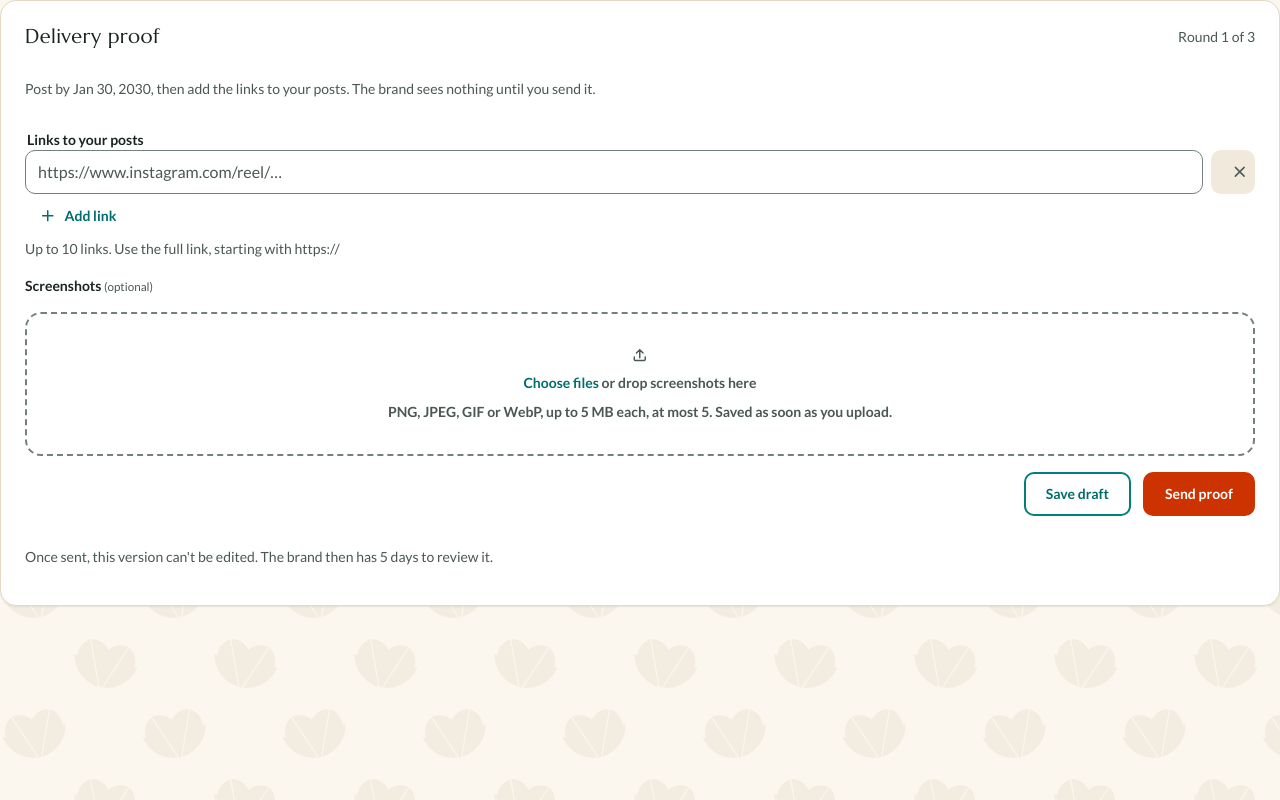
Test case: refuses an empty link row next to a valid one instead of dropping it, and names the row
Type "https://example.com/post" into the field named "Link 1" at (614, 172), box x1=25 y1=150 x2=1203 y2=194
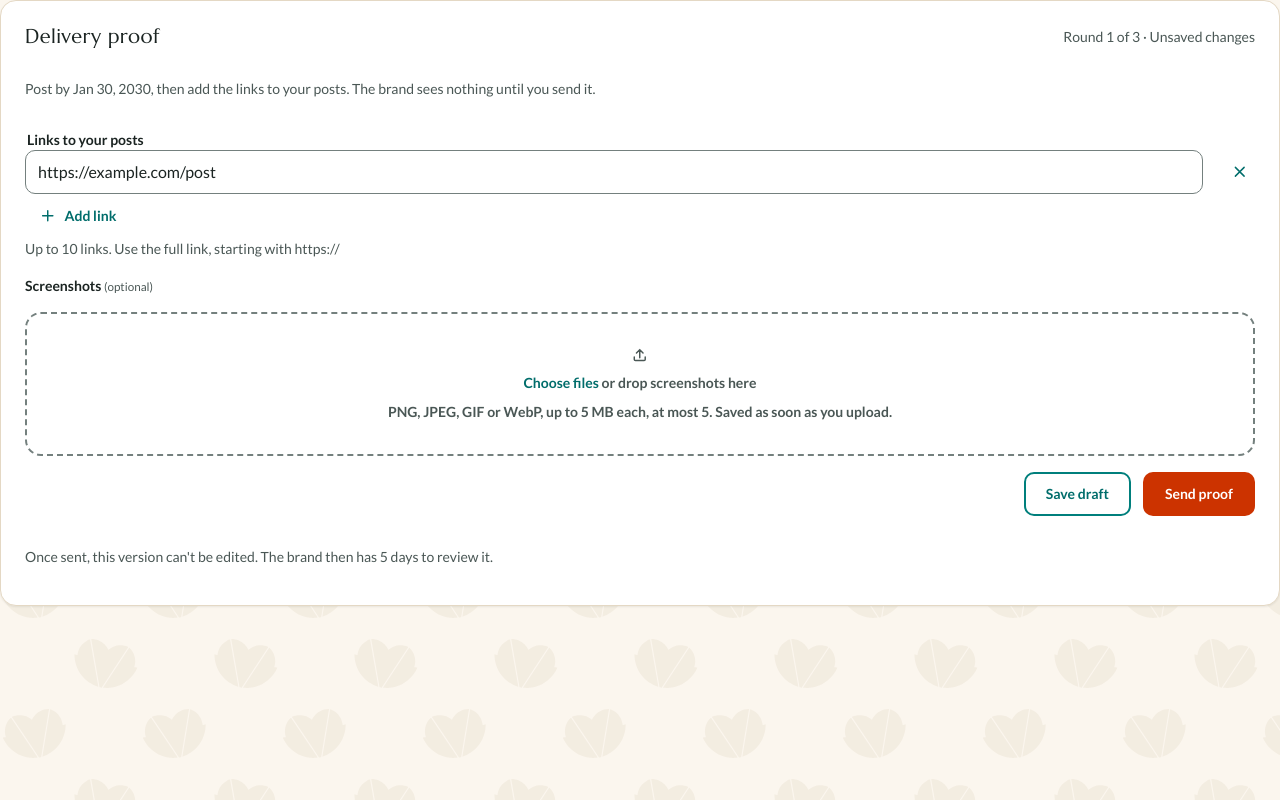
Click the button "Add link" at (78, 216), box x1=25 y1=198 x2=130 y2=234
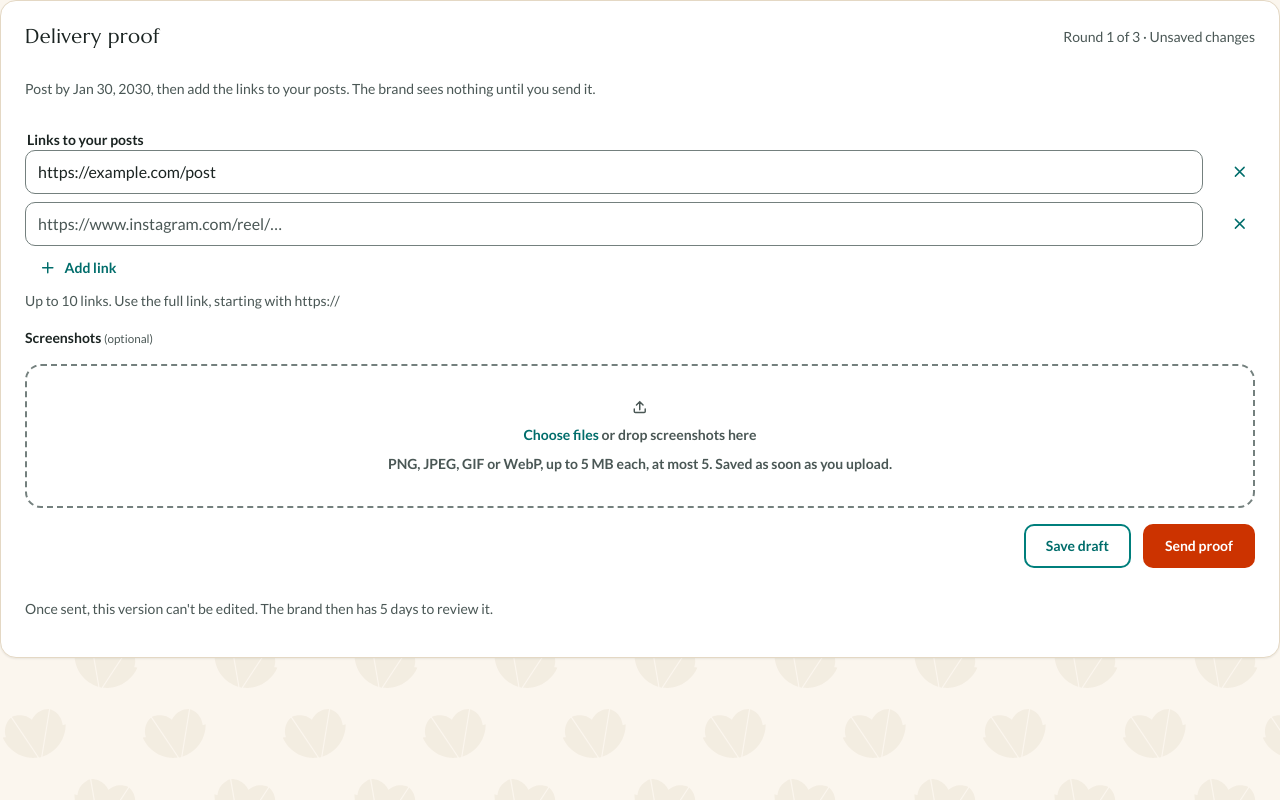
Click the button "Send proof" at (1199, 546), box x1=1143 y1=524 x2=1255 y2=568
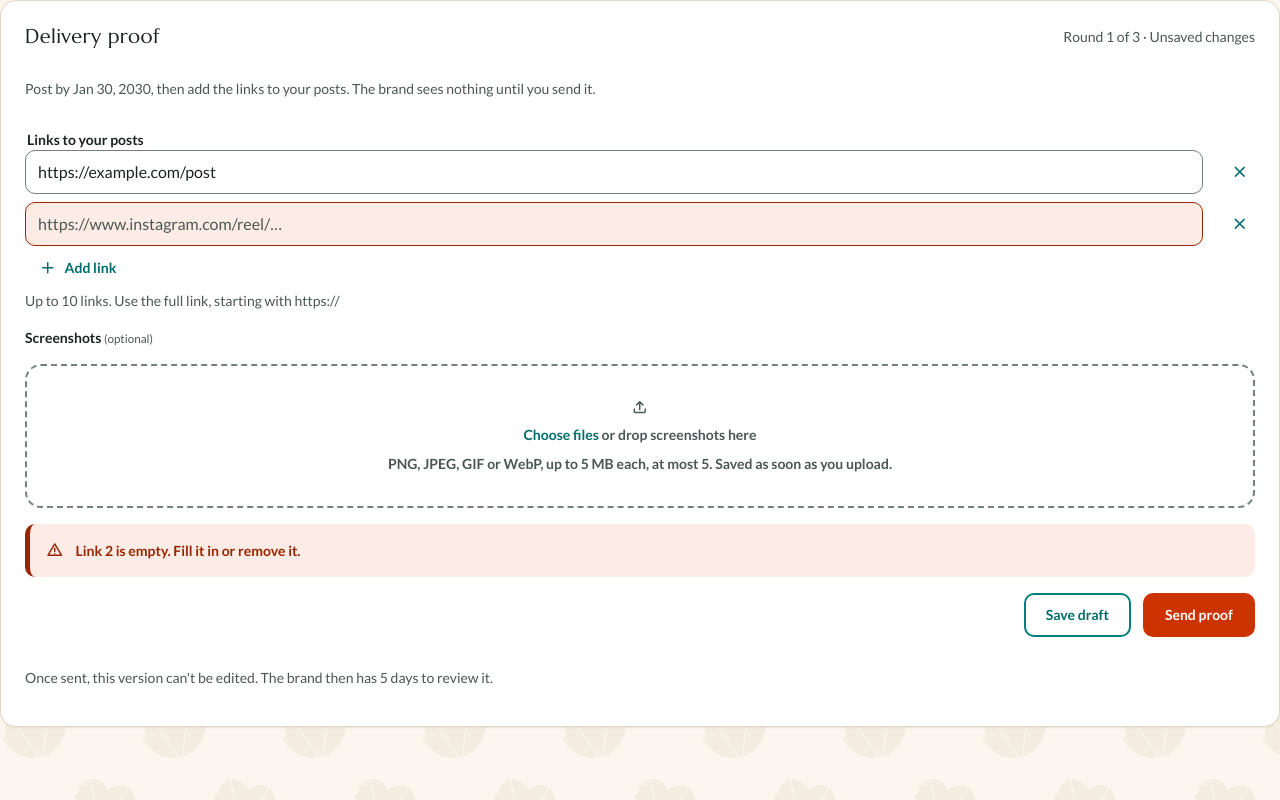
Expected: the element "Send your proof?" is not shown
Expected: the message reads "Link 2 is empty. Fill it in or remove it.", x1=76 y1=542 x2=300 y2=558
Click the button named "Remove link 2" at (1233, 224), box x1=1211 y1=202 x2=1255 y2=246
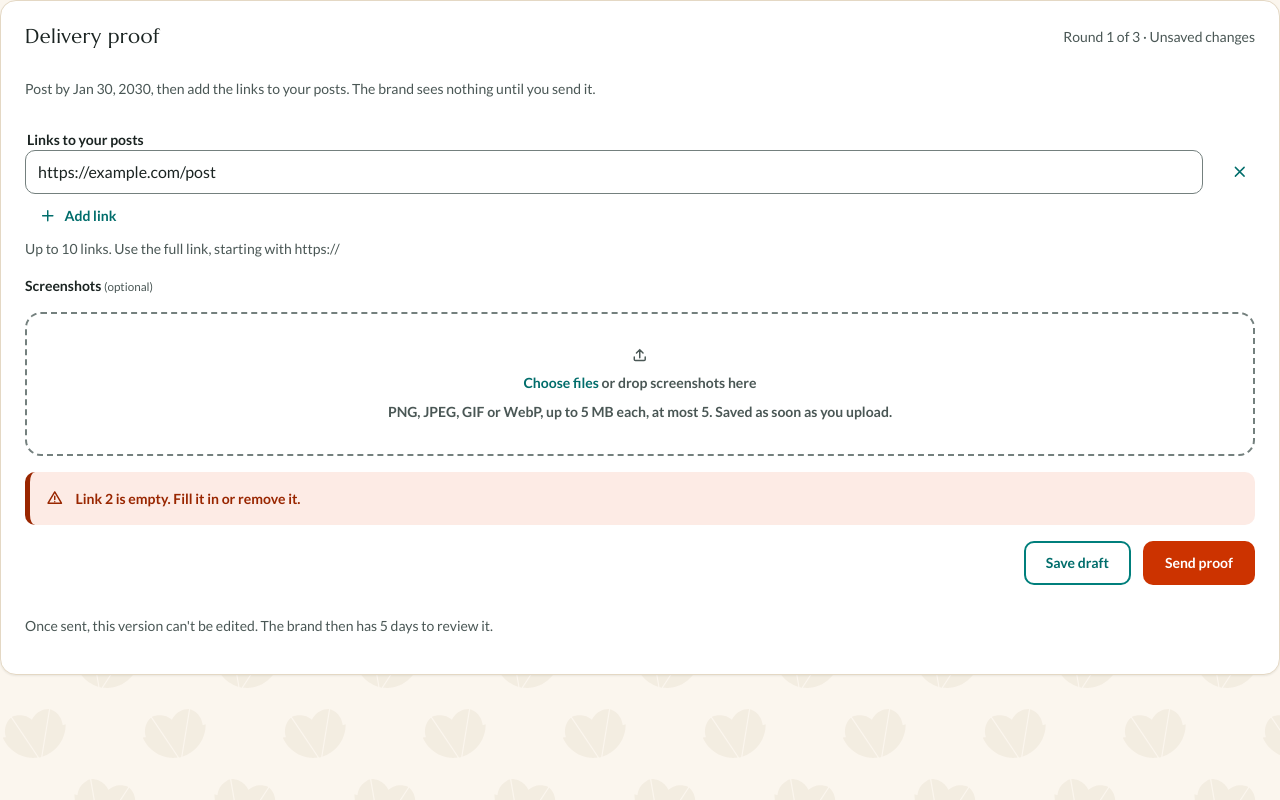
Click the button "Send proof" at (1199, 562), box x1=1143 y1=540 x2=1255 y2=584
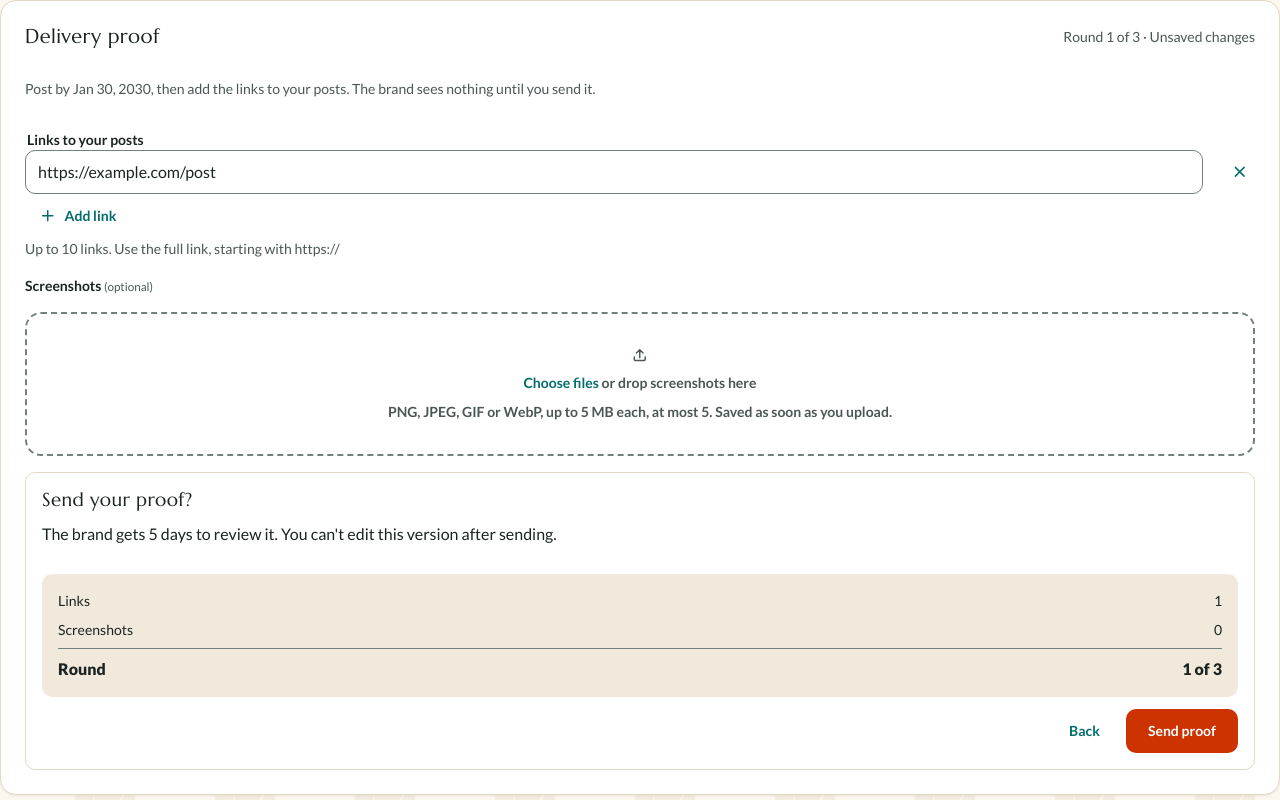
Expected: the element "Send your proof?" is shown, x1=25 y1=472 x2=1255 y2=770
